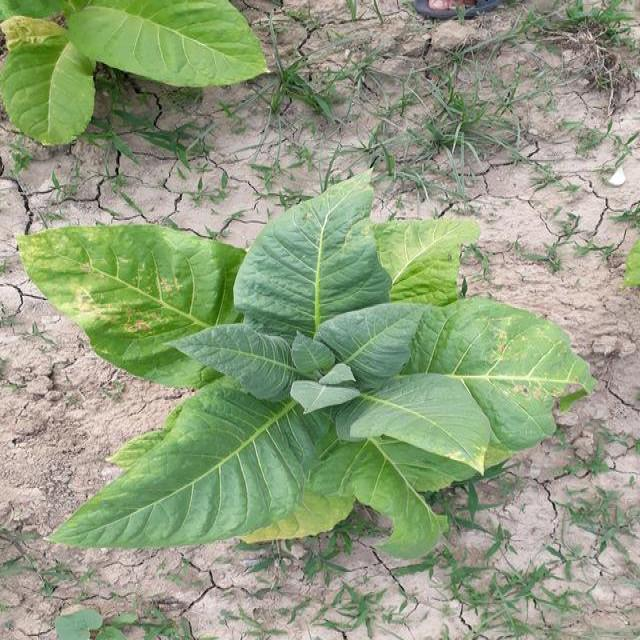crop: (26, 216, 566, 554), (2, 2, 260, 138)
